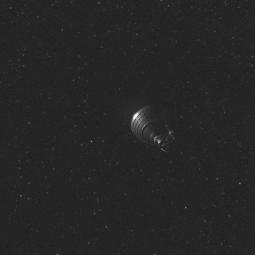debris: (125, 99, 184, 160)
